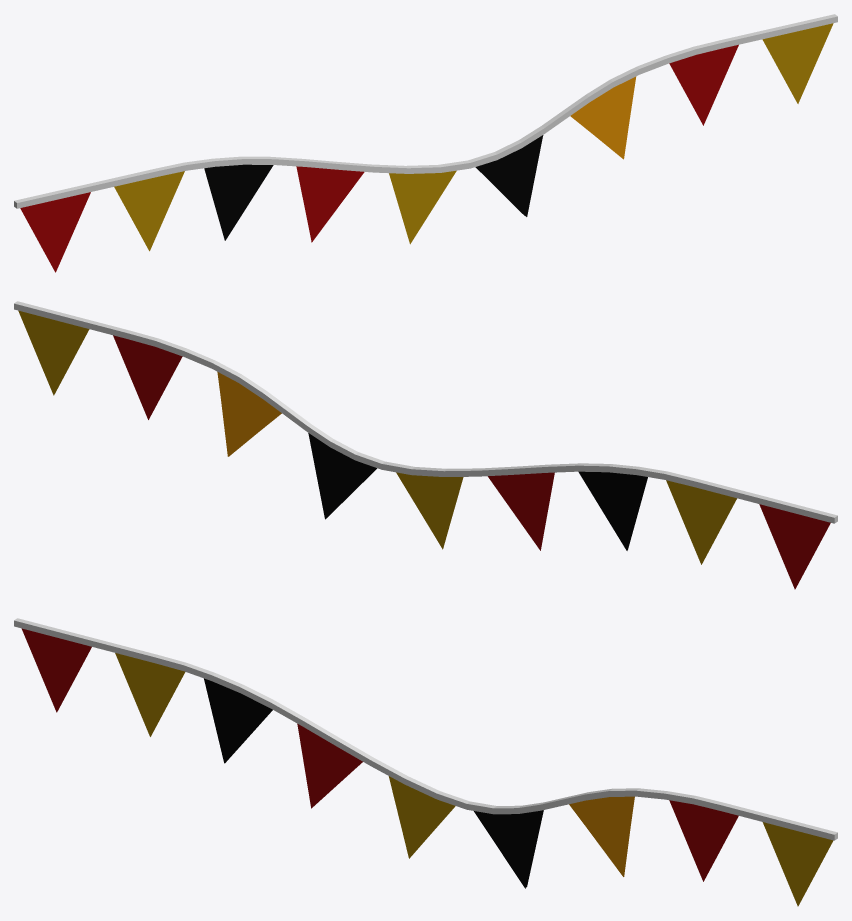
The model's file is Fitas (1).fbx.
3 renders of one model, top to bottom at view 1: azimuth 30°, elevation 25°; view 2: azimuth 150°, elevation 25°; view 3: azimuth 330°, elevation 25°, orthographic. The views are drawn at different scales.
Parts seen in each view (by area): view 1: Fitas.001, Fitas; view 2: Fitas.001, Fitas; view 3: Fitas.001, Fitas.
Boxes of the visible parts, box(x1,y1,x2,y2) form: Fitas.001: box(20, 23, 833, 272); Fitas: box(14, 14, 837, 208); Fitas.001: box(18, 310, 830, 589); Fitas: box(14, 301, 837, 523); Fitas.001: box(21, 628, 833, 906); Fitas: box(14, 618, 837, 840).
Size of the model in its own units: 1391 by 217 by 51.17.
